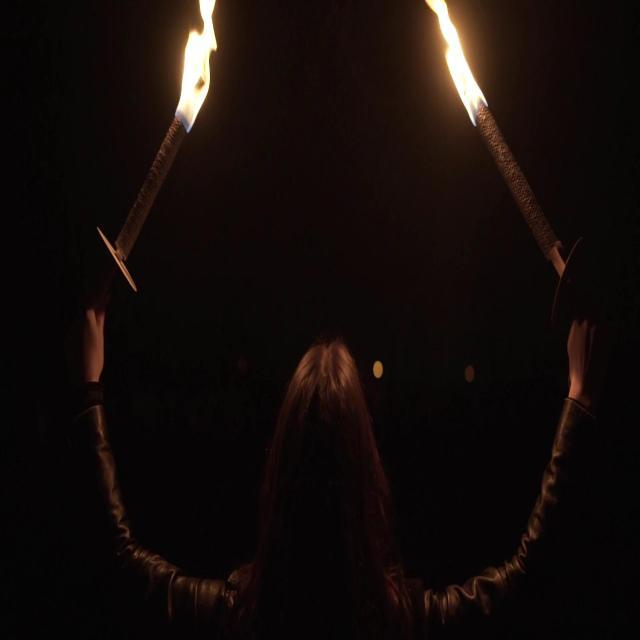Fire: (422, 0, 488, 121), (173, 0, 221, 119)
